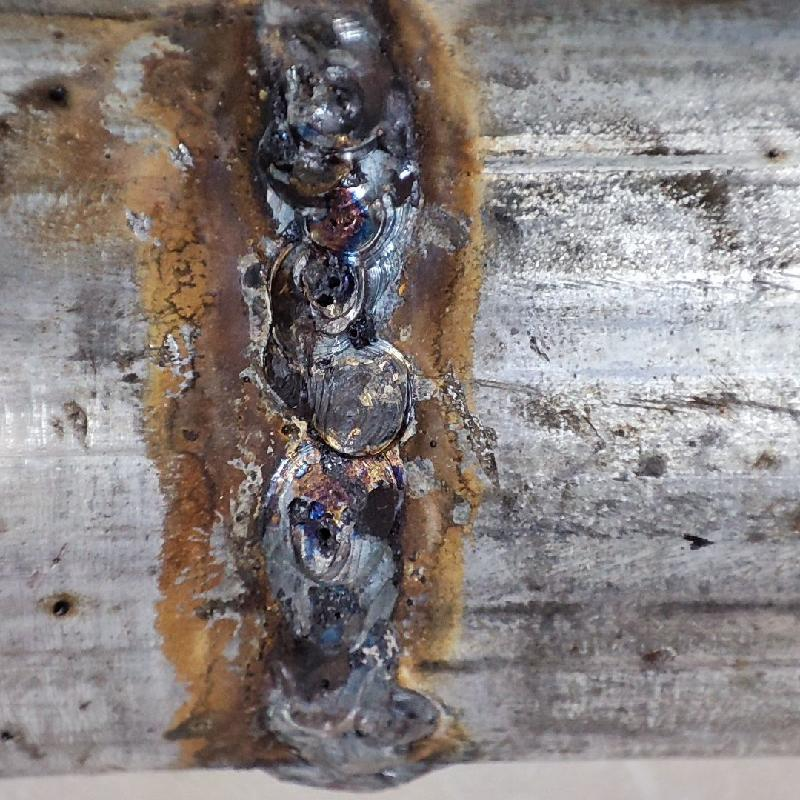Surface_pores: (301, 260, 366, 314)
crater: (248, 57, 428, 775)
